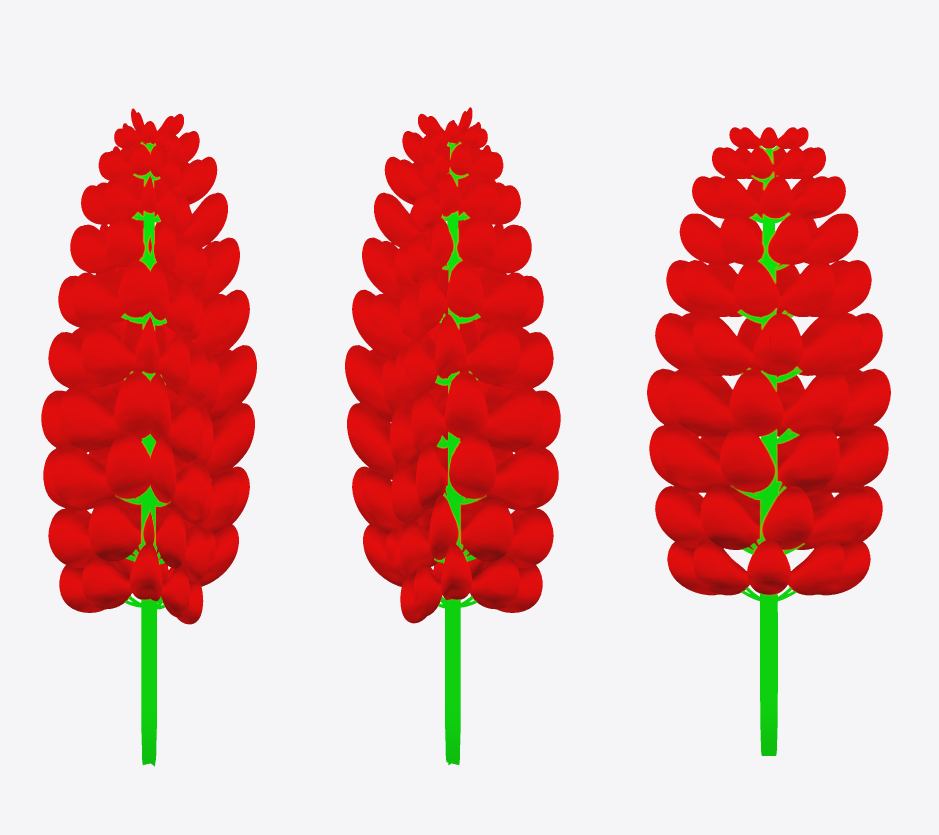
File: Flower01.fbx
The picture shows the model from 3 angles, left to right: view 1: azimuth 30°, elevation 25°; view 2: azimuth 150°, elevation 25°; view 3: azimuth 270°, elevation 25°; orthographic projection. The views are drawn at different scales.
Parts seen in each view (by area): view 1: Flower01_LOD0; view 2: Flower01_LOD0; view 3: Flower01_LOD0.
Boxes of the visible parts, x1=… form: Flower01_LOD0: x1=41, y1=108, x2=256, y2=766; Flower01_LOD0: x1=345, y1=107, x2=560, y2=764; Flower01_LOD0: x1=647, y1=127, x2=890, y2=755.
Size of what is drawn, in the model's own units: 17.97 by 43.54 by 17.97.
